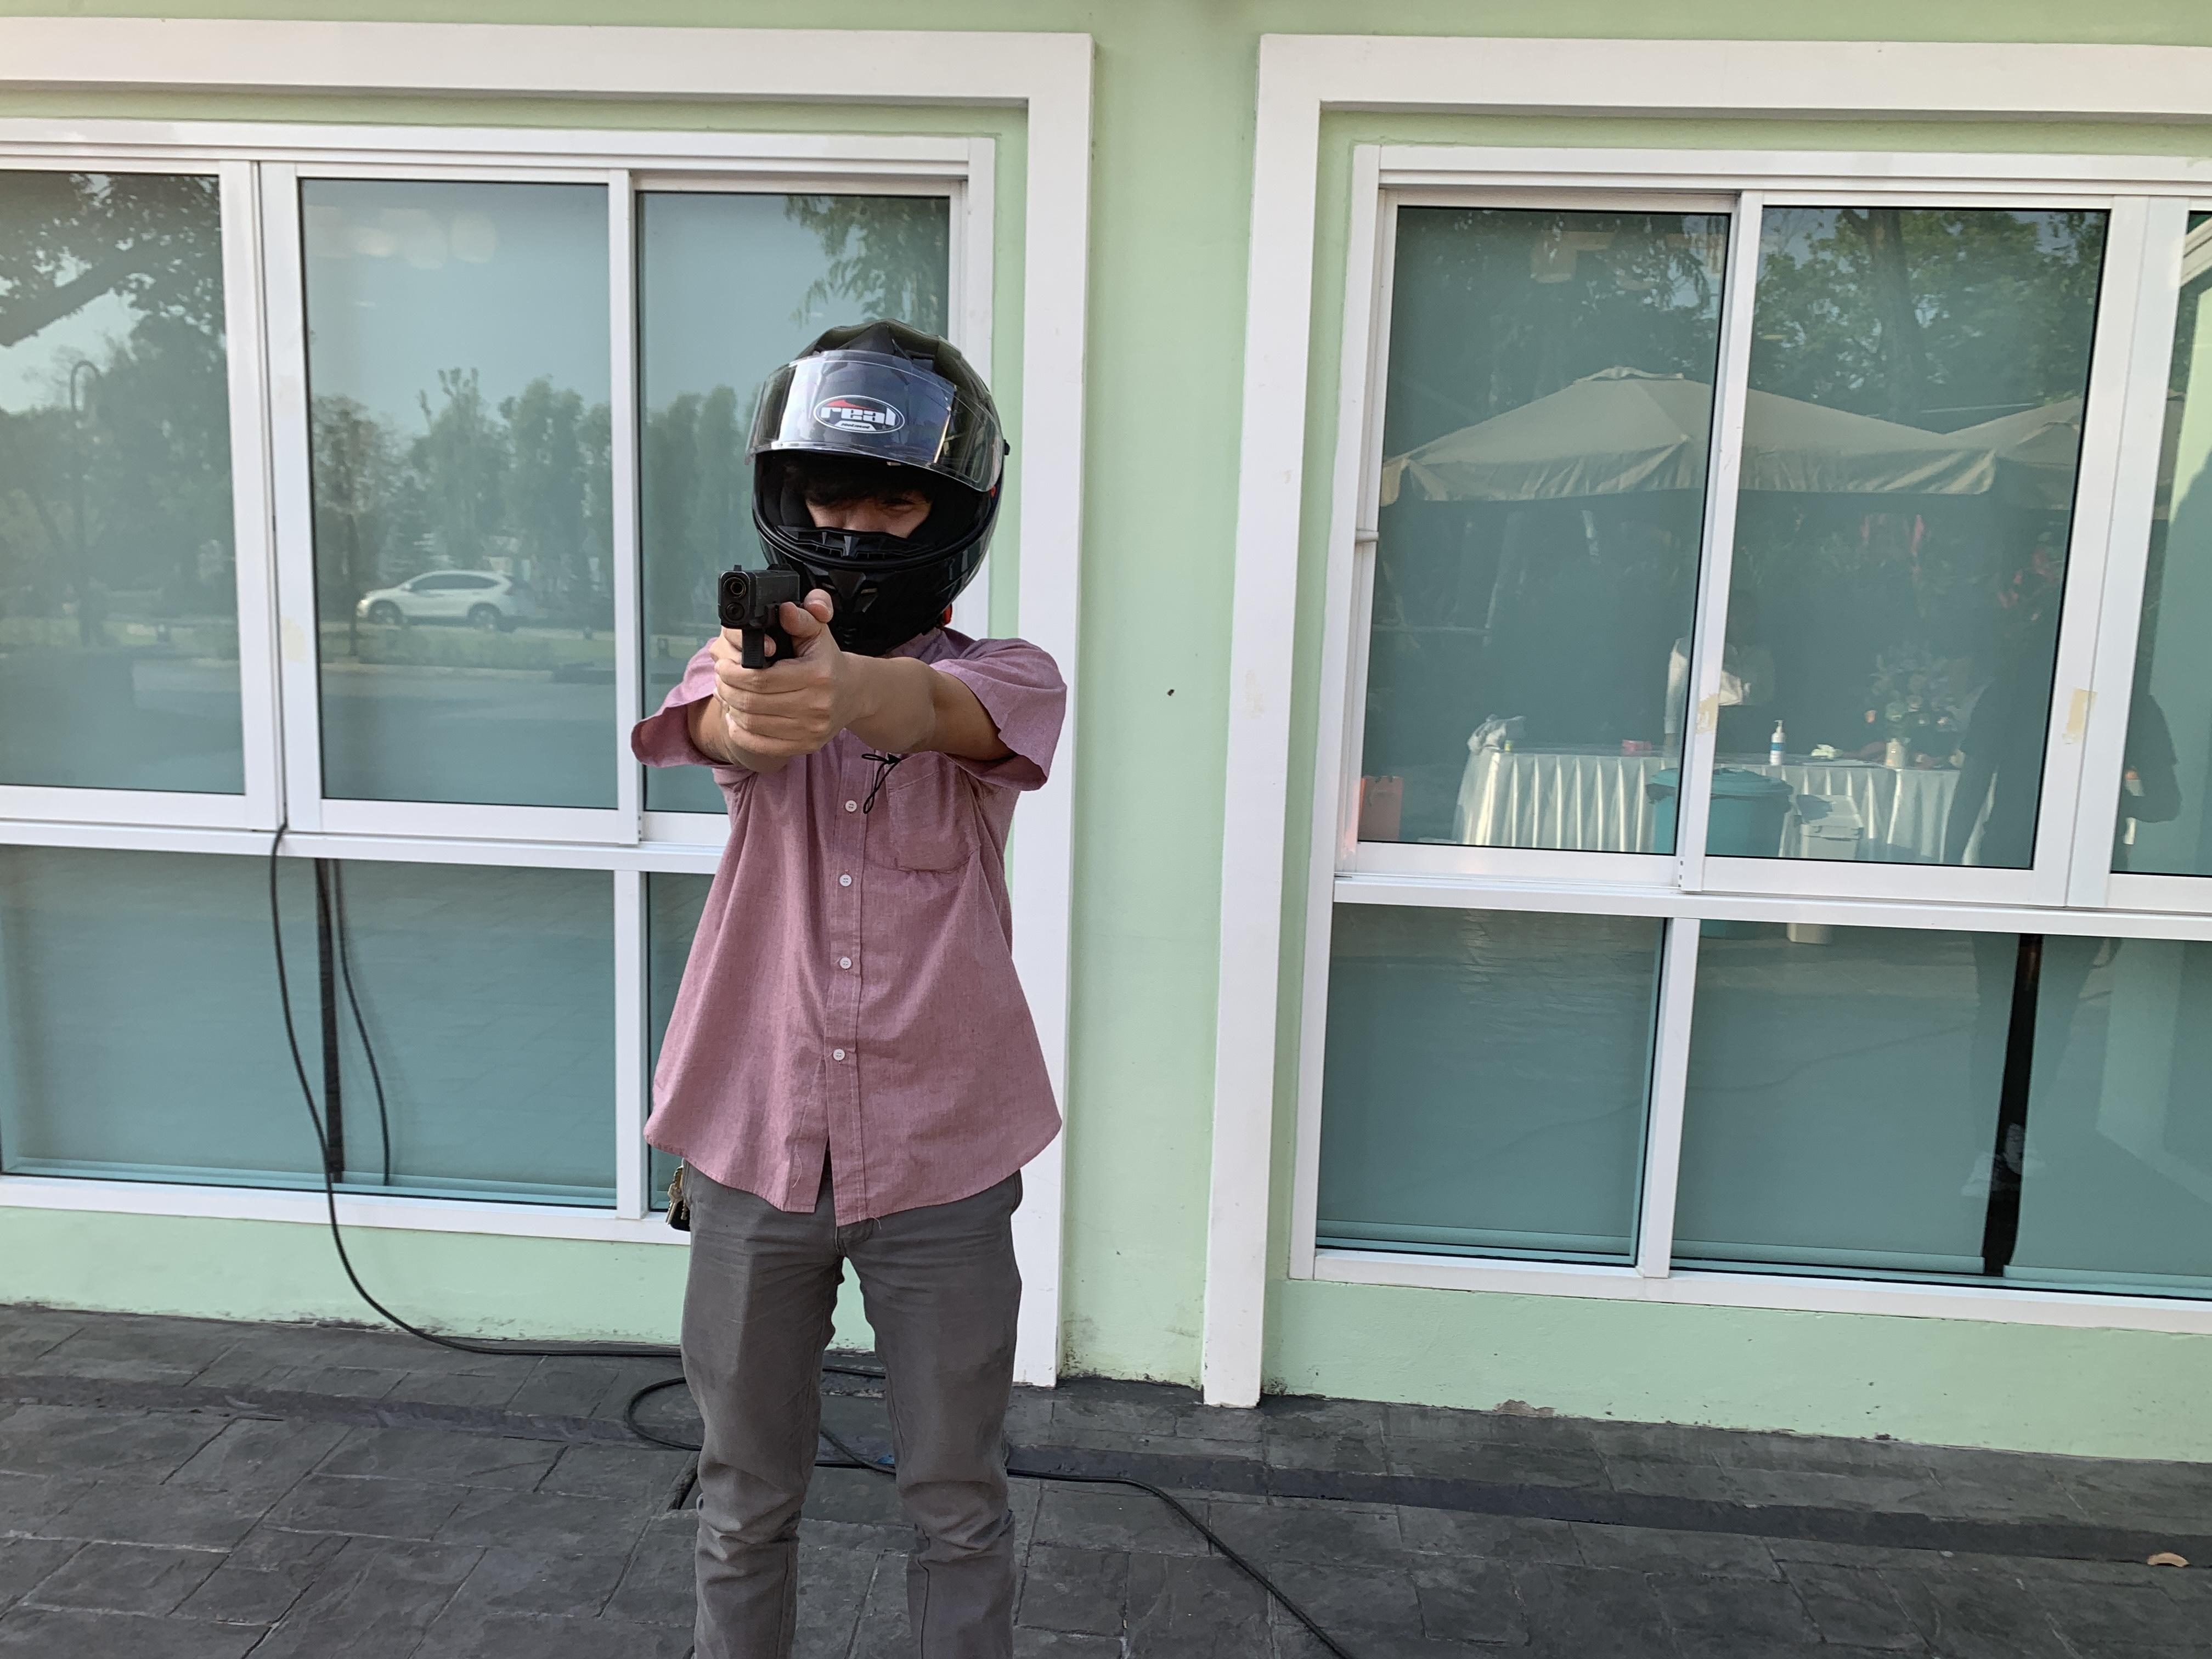criminal: (631, 319, 1069, 1659)
weapon: (712, 563, 829, 676)
